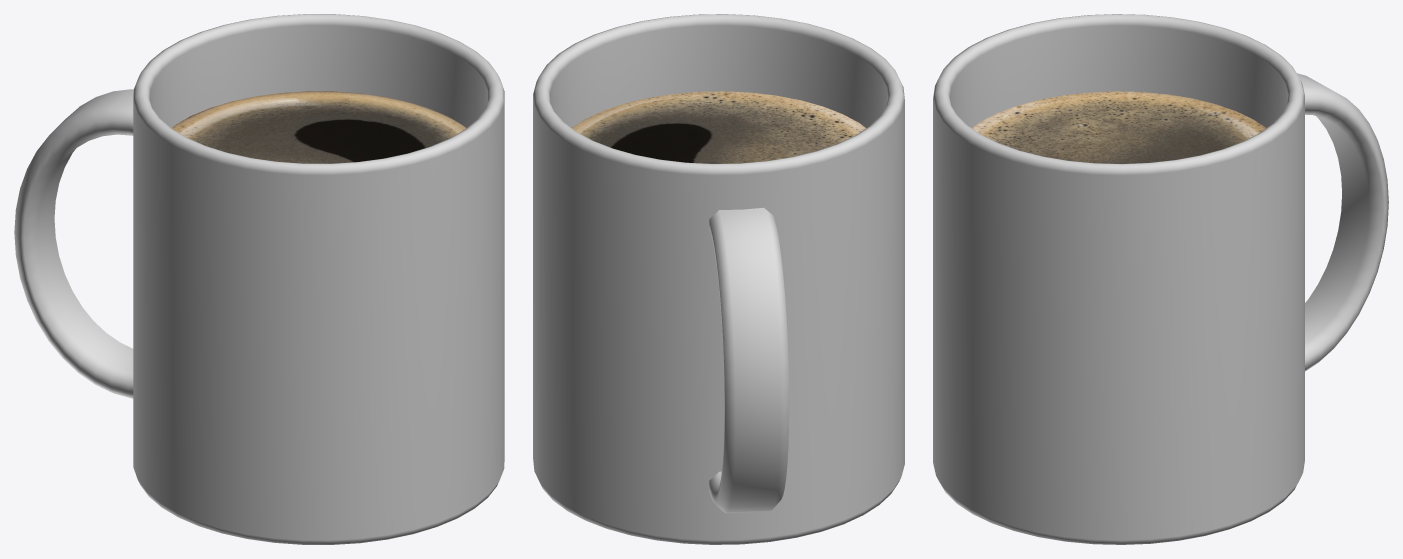
File: kaffe.gltf
The picture shows the model from 3 angles, left to right: view 1: azimuth 30°, elevation 25°; view 2: azimuth 150°, elevation 25°; view 3: azimuth 270°, elevation 25°; orthographic projection.
Parts seen in each view (by area): view 1: Kaffe; view 2: Kaffe; view 3: Kaffe.
Boxes of the visible parts, box(x1,y1,x2,y2) form: Kaffe: box(14, 14, 504, 544); Kaffe: box(533, 14, 904, 544); Kaffe: box(933, 14, 1388, 544).
Bounding box in the file's own units: 0.521 × 0.5482 × 0.5948.
2 materials, 1 textured.
